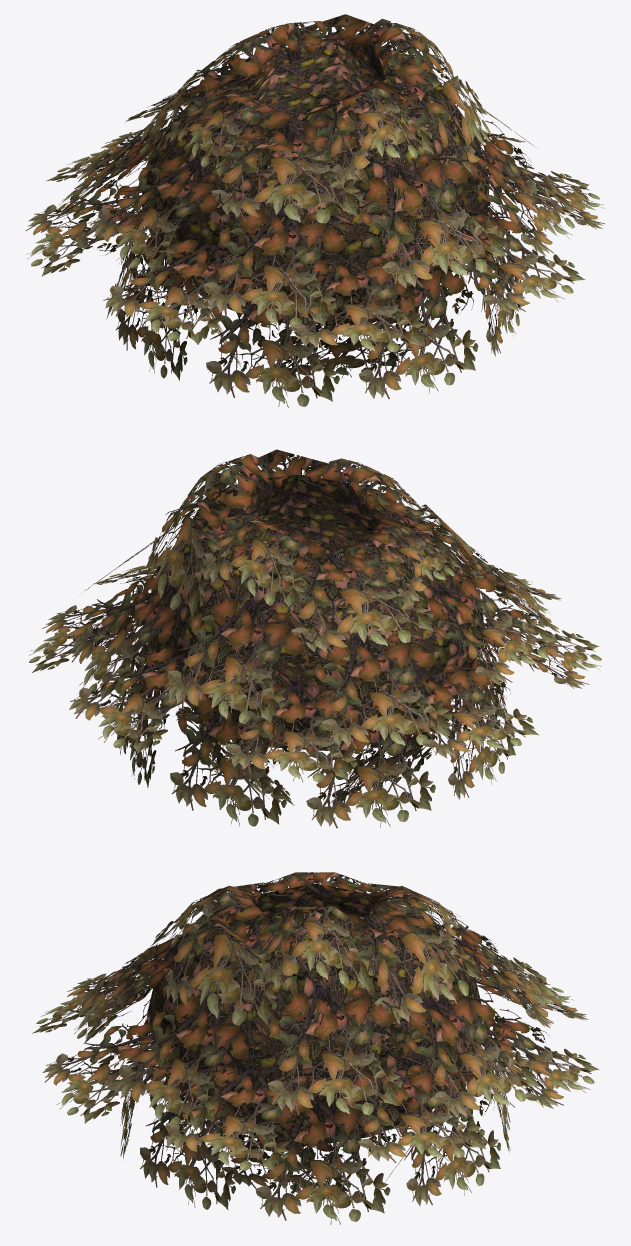
The model's file is poi_all_lair_leaf_small_l0.fbx.
3 views of the same model, one above another, from view 1: azimuth 30°, elevation 25°; view 2: azimuth 150°, elevation 25°; view 3: azimuth 270°, elevation 25° (orthographic). The views are drawn at different scales.
Parts seen in each view (by area): view 1: mesh_node; view 2: mesh_node; view 3: mesh_node.
Part boxes in pixels (<box>): mesh_node: <box>26,14,604,407</box>; mesh_node: <box>29,449,601,828</box>; mesh_node: <box>32,872,598,1224</box>.
Bounding box in the file's own units: 3.2 × 1.75 × 3.2.
Materials: 3 (3 with a texture image).
